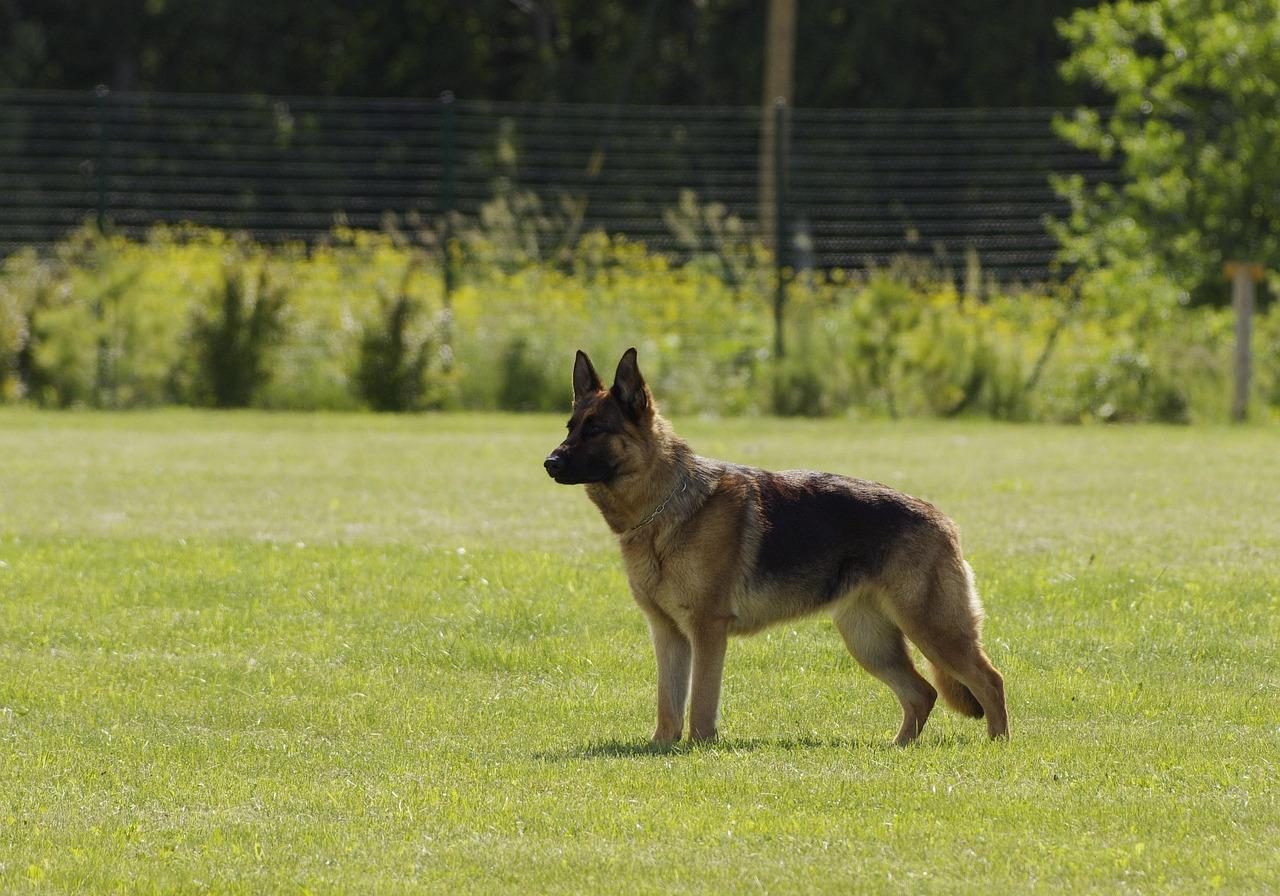german_shepherd: (540, 364, 655, 520)
